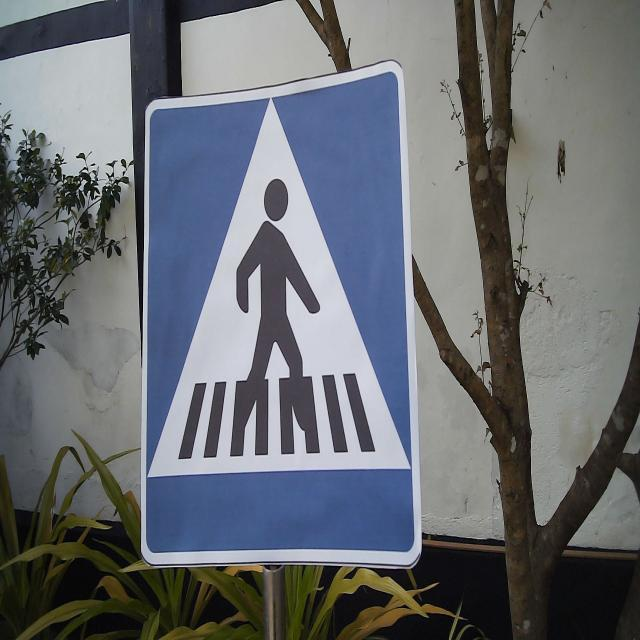crosswalk_sign: (138, 56, 424, 572)
